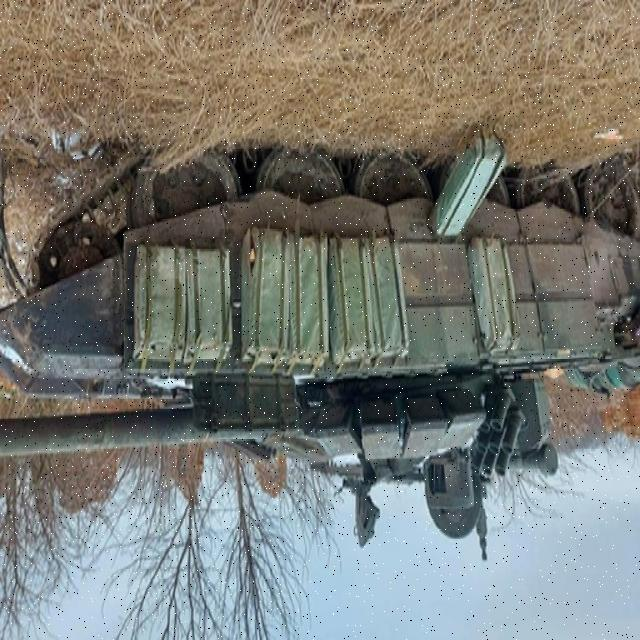TANK: (0, 145, 638, 544)
